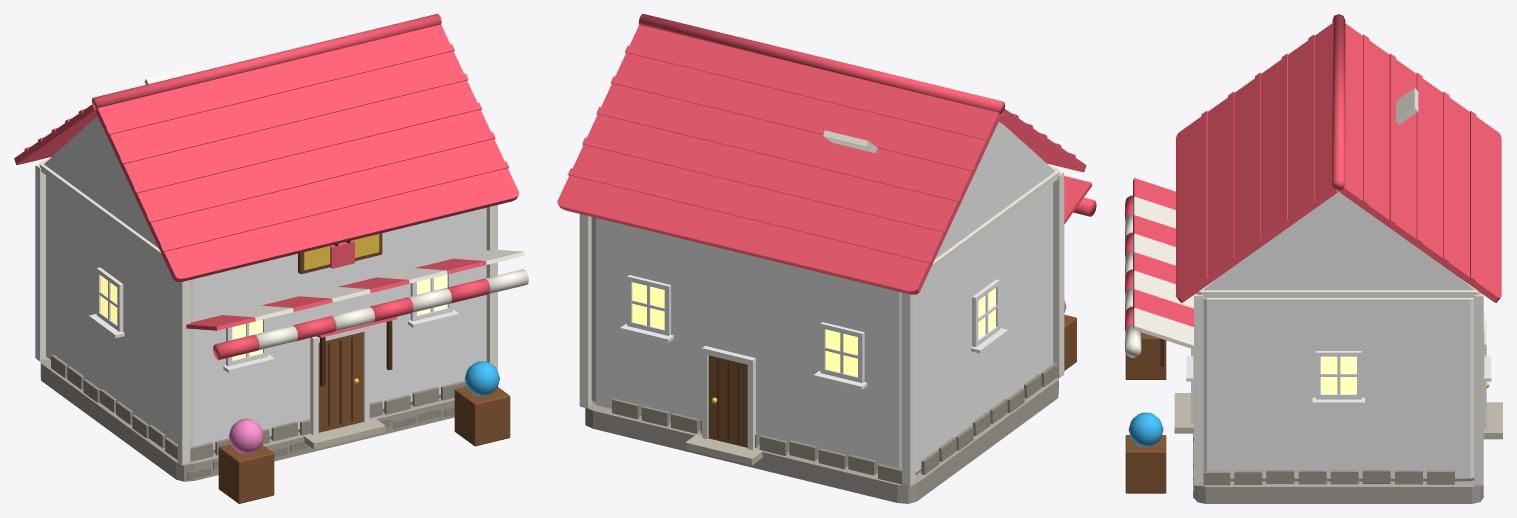
File: obchod.glb
The picture shows the model from 3 angles, left to right: view 1: azimuth 30°, elevation 25°; view 2: azimuth 150°, elevation 25°; view 3: azimuth 270°, elevation 25°; orthographic projection. The views are drawn at different scales.
Parts seen in each view (by area): view 1: obchod; view 2: obchod; view 3: obchod.
Boxes of the visible parts, x1,y1,x2,y2 form: obchod: (14,14,528,503); obchod: (557,14,1096,503); obchod: (1125,14,1502,503).
Bounding box in the file's own units: 6.74 × 6.27 × 6.47.
Materials: 2 (2 with a texture image).
